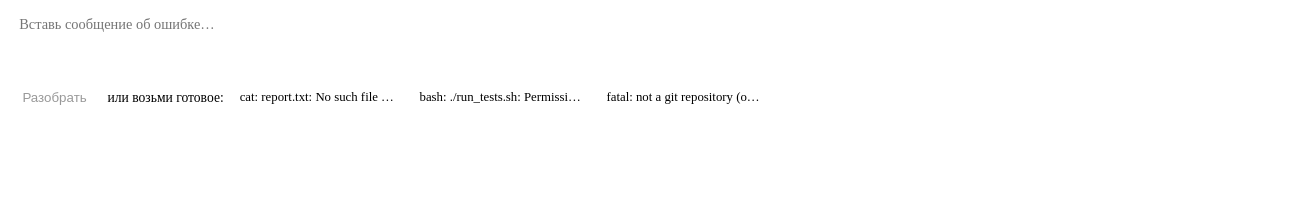
Scenario: text without known words gives no done plaque
Type "segmentation violation core dumped" into the text box with placeholder "Вставь сообщение об ошибке…". click: (644, 42)
box: 8,8 -> 1280,75
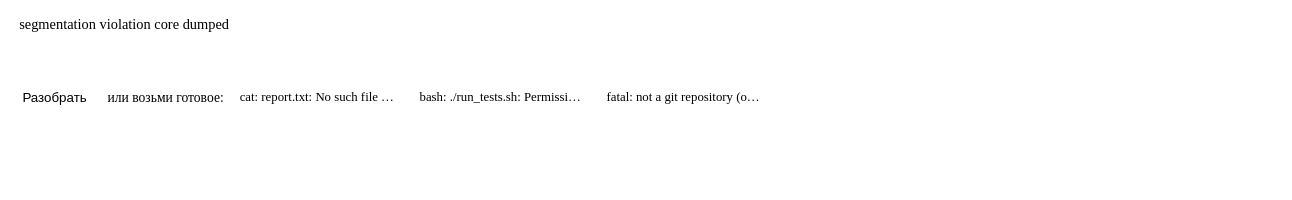
Click the button "Разобрать". click: (55, 98)
box: 8,85 -> 101,111
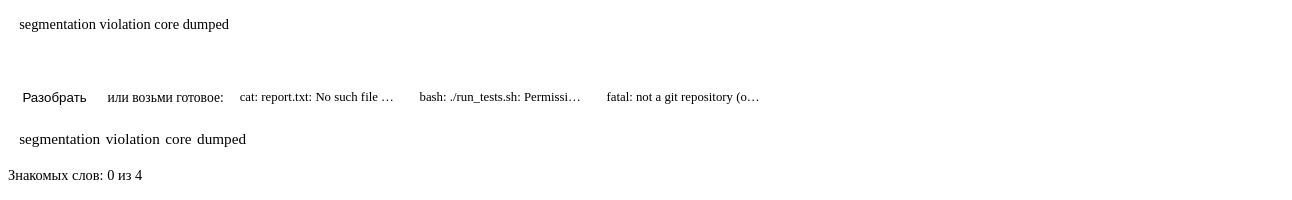
Check: the text "Знакомых слов: 0 из 4" is shown, box 8,167 -> 142,183
